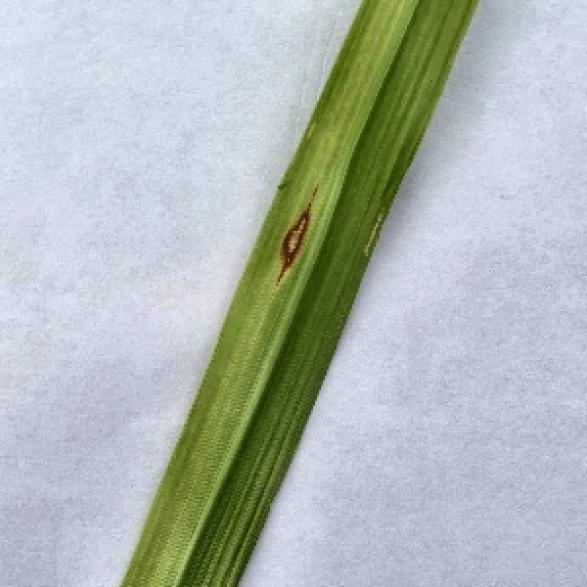Leaf_smut: (264, 172, 348, 337)
